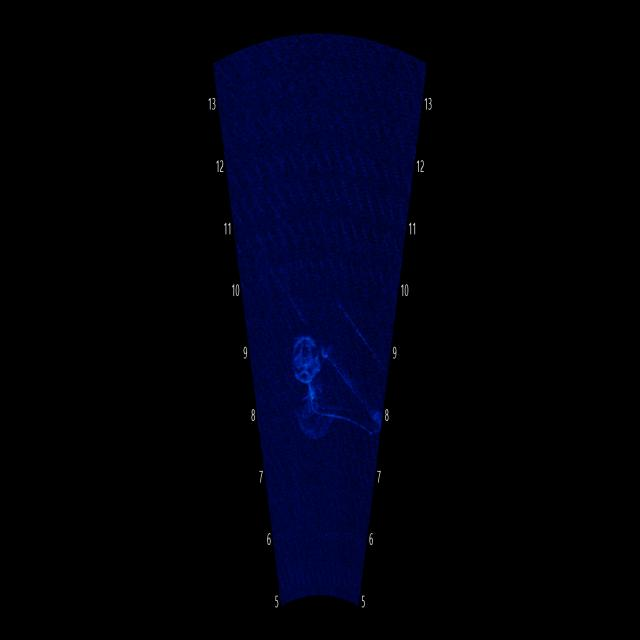circle: (286, 315, 328, 396)
